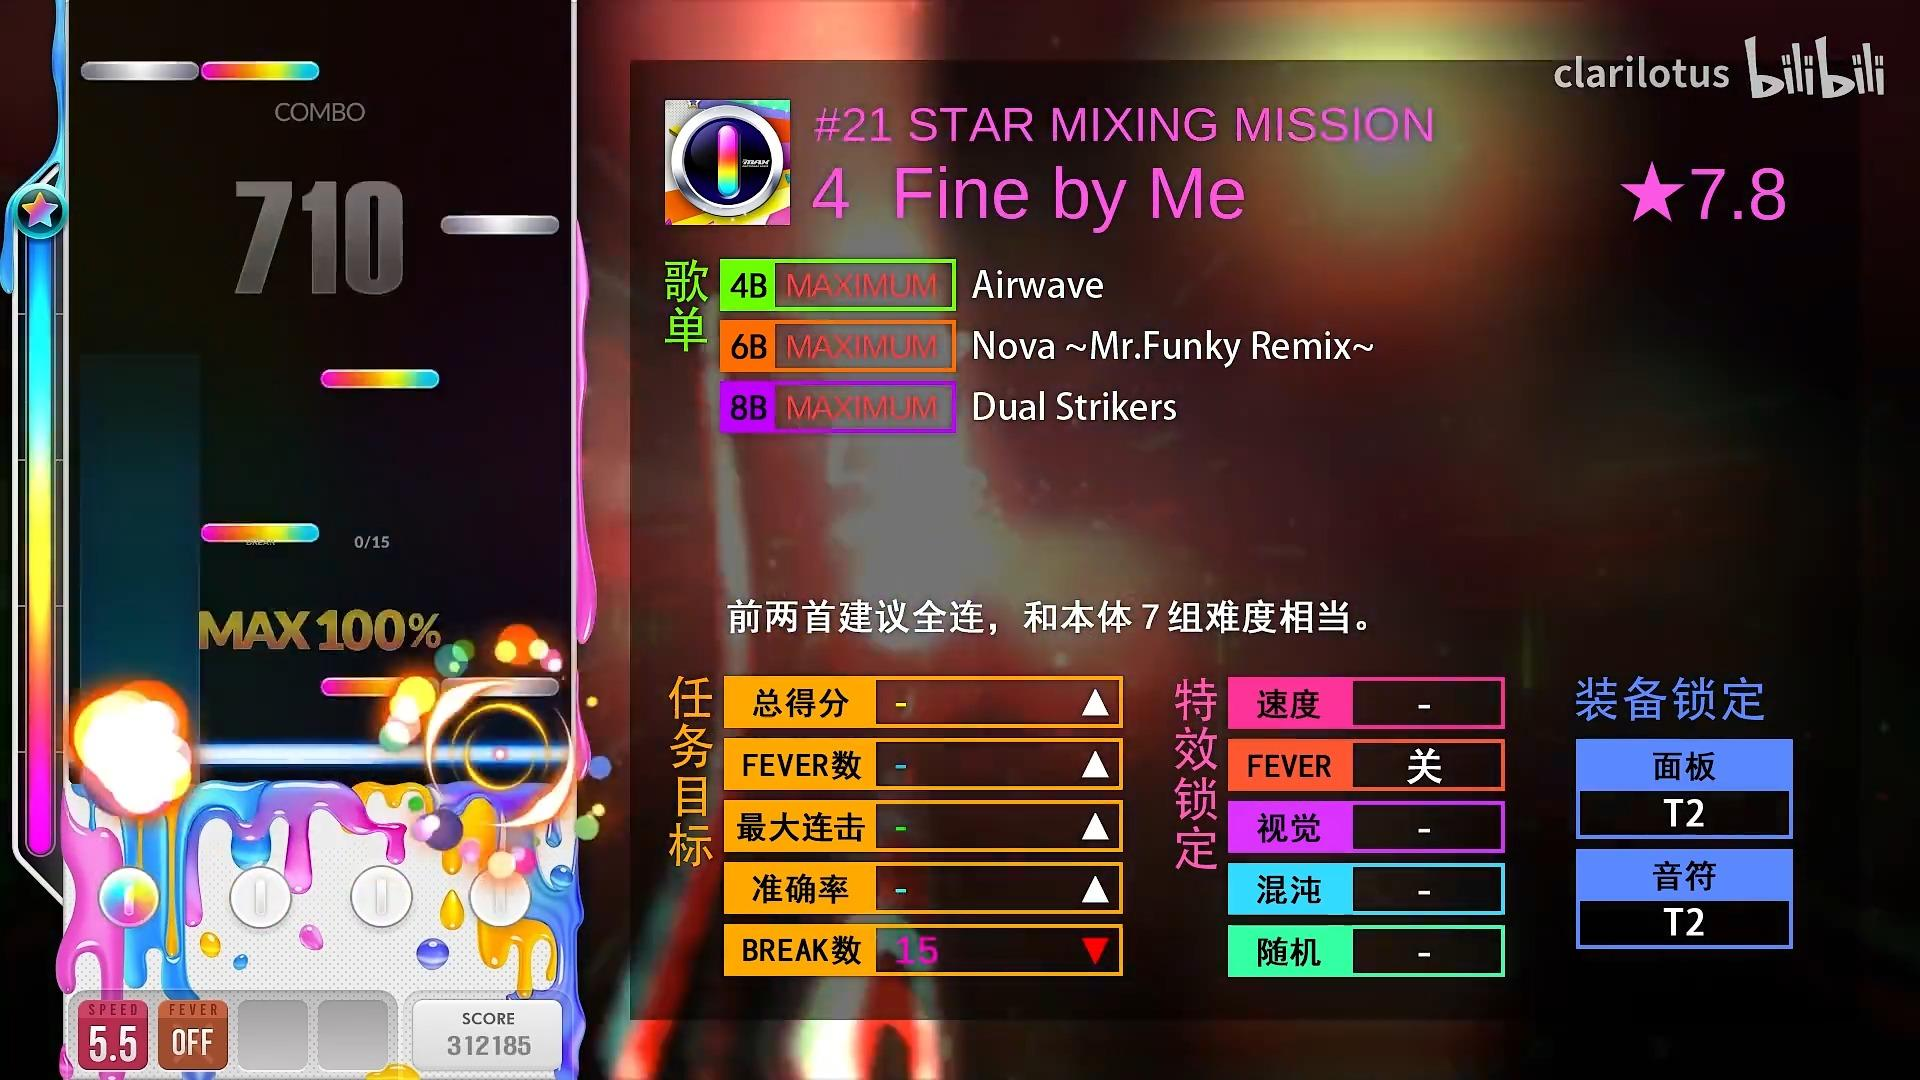note: (79, 62, 199, 82), (199, 62, 319, 82), (320, 369, 439, 389), (200, 524, 319, 543), (320, 676, 439, 696), (442, 676, 559, 696), (440, 216, 560, 235)
